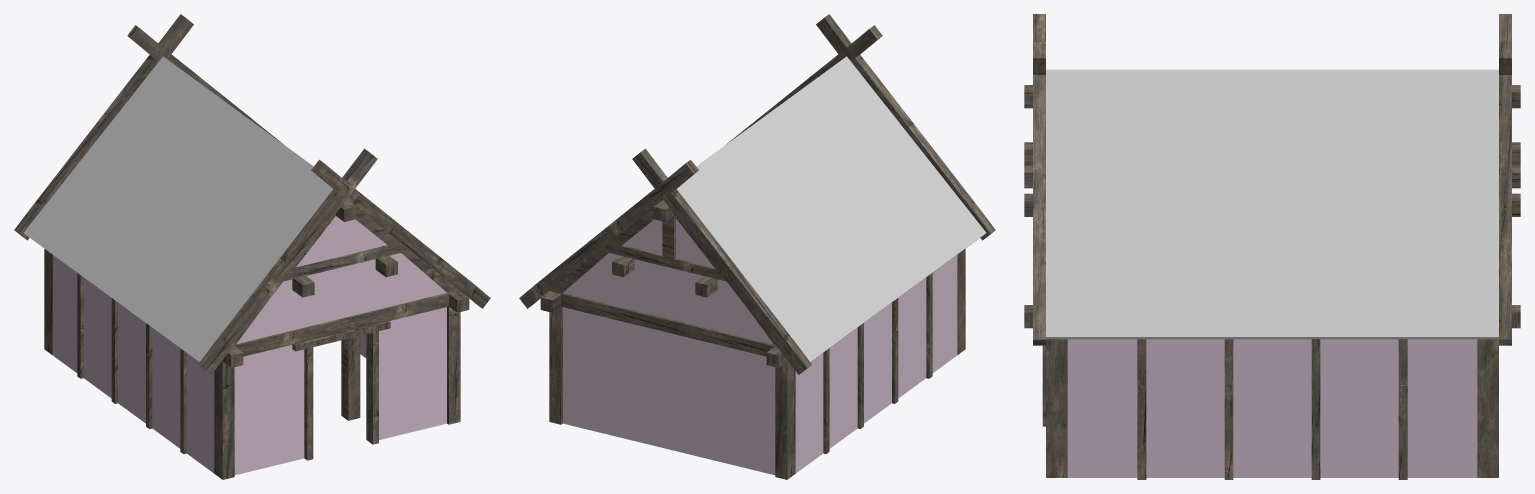
Rendered from SM_Viking_hut_1_wRoof.fbx.
The picture shows the model from 3 angles, left to right: view 1: azimuth 30°, elevation 25°; view 2: azimuth 150°, elevation 25°; view 3: azimuth 270°, elevation 25°; orthographic projection. The views are drawn at different scales.
Visible parts, largest first — view 1: Hut_base, Roof; view 2: Hut_base, Roof; view 3: Roof, Hut_base.
Boxes of the visible parts, left/top/right/bottom form: Hut_base: left=14, top=14, right=490, bottom=479; Roof: left=23, top=56, right=332, bottom=361; Hut_base: left=519, top=14, right=995, bottom=479; Roof: left=677, top=56, right=986, bottom=361; Roof: left=1046, top=69, right=1498, bottom=339; Hut_base: left=1024, top=14, right=1520, bottom=479.
Size of the model in its own units: 484 by 477 by 570.
